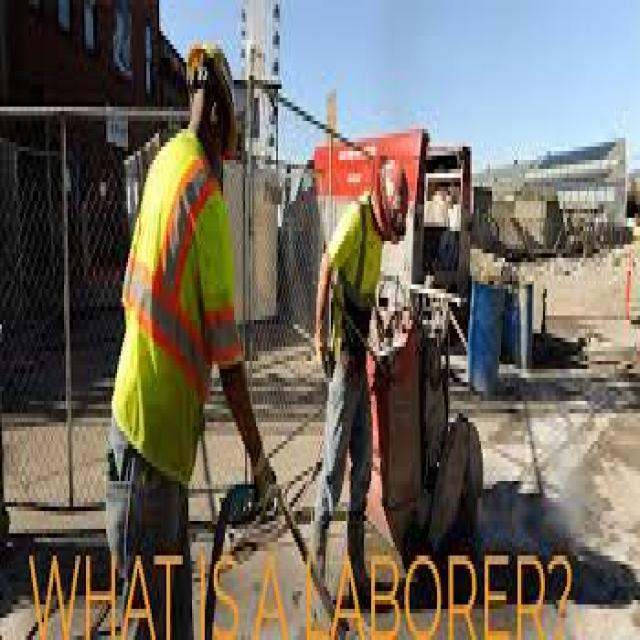Reflective-Jacket: (104, 129, 240, 480), (316, 182, 389, 347)
Safety-Helmet: (178, 32, 249, 142), (368, 143, 415, 245)
